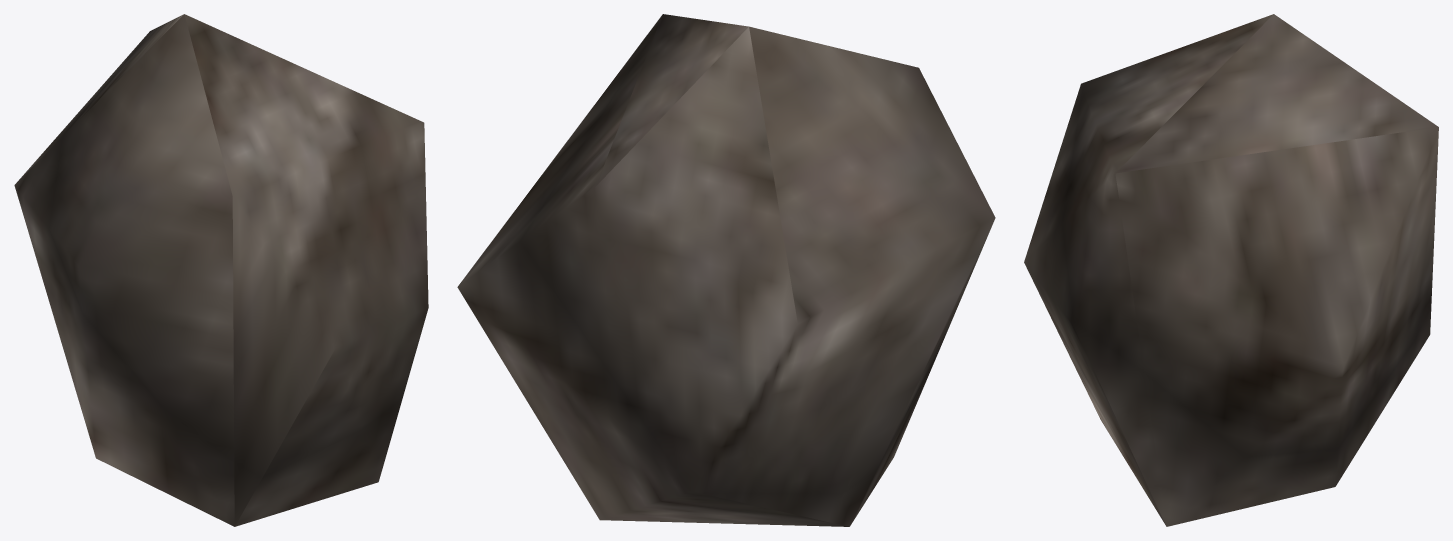
Rendered from small_rock.obj.
3 views of the same model, side by side, from view 1: azimuth 30°, elevation 25°; view 2: azimuth 150°, elevation 25°; view 3: azimuth 270°, elevation 25° (orthographic). The views are drawn at different scales.
Visible parts, largest first — view 1: Icosphere; view 2: Icosphere; view 3: Icosphere.
Part boxes in pixels (bbox=[...]): Icosphere: bbox=[14, 14, 428, 526]; Icosphere: bbox=[457, 14, 995, 526]; Icosphere: bbox=[1024, 14, 1438, 526].
Bounding box in the file's own units: 0.2553 × 0.2923 × 0.2458.
